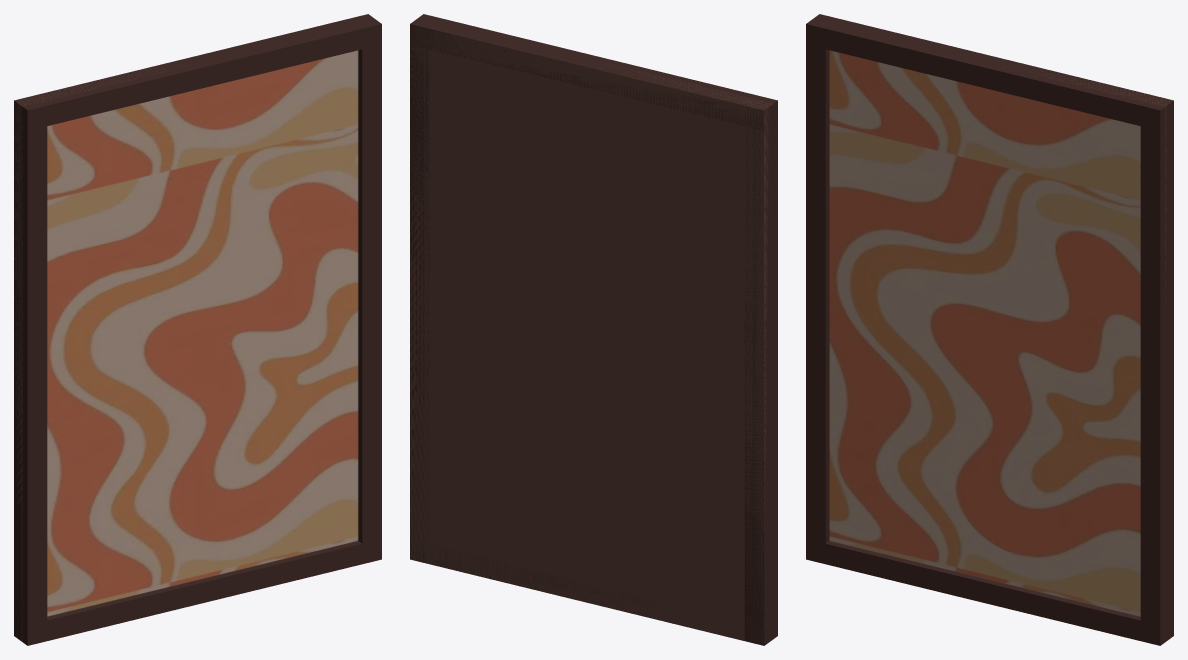
File: state-default.glb
3 views of the same model, side by side, from view 1: azimuth 30°, elevation 25°; view 2: azimuth 150°, elevation 25°; view 3: azimuth 330°, elevation 25° (orthographic).
Visible parts, largest first — view 1: assetPrim:8f61d882176858-19c743358f5:poster-frame-back, assetPrim:8f61d882176858-19c743358f5:poster-art-surface, assetPrim:8f61d882176858-19c743358f5:frame-border-left, assetPrim:8f61d882176858-19c743358f5:frame-border-right, assetPrim:8f61d882176858-19c743358f5:frame-border-top, assetPrim:8f61d882176858-19c743358f5:frame-border-bottom; view 2: assetPrim:8f61d882176858-19c743358f5:poster-frame-back, assetPrim:8f61d882176858-19c743358f5:frame-border-left, assetPrim:8f61d882176858-19c743358f5:frame-border-top, assetPrim:8f61d882176858-19c743358f5:frame-border-right, assetPrim:8f61d882176858-19c743358f5:frame-border-bottom; view 3: assetPrim:8f61d882176858-19c743358f5:poster-art-surface, assetPrim:8f61d882176858-19c743358f5:poster-frame-back, assetPrim:8f61d882176858-19c743358f5:frame-border-right, assetPrim:8f61d882176858-19c743358f5:frame-border-left, assetPrim:8f61d882176858-19c743358f5:frame-border-top, assetPrim:8f61d882176858-19c743358f5:frame-border-bottom.
Part boxes in pixels (x1=…): assetPrim:8f61d882176858-19c743358f5:poster-frame-back: x1=14, y1=51, x2=357, y2=641; assetPrim:8f61d882176858-19c743358f5:poster-art-surface: x1=47, y1=50, x2=358, y2=616; assetPrim:8f61d882176858-19c743358f5:frame-border-left: x1=14, y1=95, x2=47, y2=645; assetPrim:8f61d882176858-19c743358f5:frame-border-right: x1=358, y1=24, x2=381, y2=564; assetPrim:8f61d882176858-19c743358f5:frame-border-top: x1=14, y1=14, x2=381, y2=130; assetPrim:8f61d882176858-19c743358f5:frame-border-bottom: x1=47, y1=540, x2=374, y2=640; assetPrim:8f61d882176858-19c743358f5:poster-frame-back: x1=410, y1=24, x2=771, y2=645; assetPrim:8f61d882176858-19c743358f5:frame-border-left: x1=744, y1=96, x2=777, y2=645; assetPrim:8f61d882176858-19c743358f5:frame-border-top: x1=410, y1=14, x2=777, y2=130; assetPrim:8f61d882176858-19c743358f5:frame-border-right: x1=410, y1=24, x2=429, y2=562; assetPrim:8f61d882176858-19c743358f5:frame-border-bottom: x1=410, y1=542, x2=702, y2=614; assetPrim:8f61d882176858-19c743358f5:poster-art-surface: x1=829, y1=50, x2=1140, y2=616; assetPrim:8f61d882176858-19c743358f5:poster-frame-back: x1=830, y1=51, x2=1173, y2=615; assetPrim:8f61d882176858-19c743358f5:frame-border-right: x1=1140, y1=96, x2=1173, y2=645; assetPrim:8f61d882176858-19c743358f5:frame-border-left: x1=806, y1=24, x2=829, y2=563; assetPrim:8f61d882176858-19c743358f5:frame-border-top: x1=806, y1=14, x2=1172, y2=130; assetPrim:8f61d882176858-19c743358f5:frame-border-bottom: x1=806, y1=540, x2=1140, y2=640.
Size of the model in its own units: 0.45 by 0.65 by 0.03.
